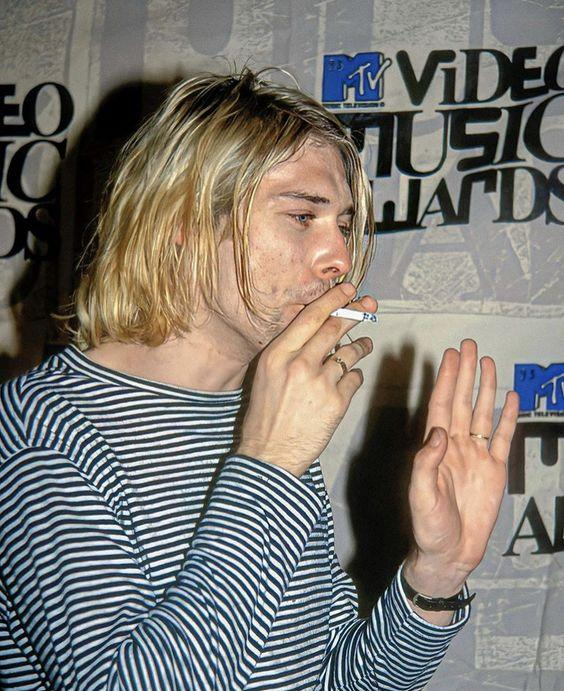cigarette: (330, 308, 377, 322)
